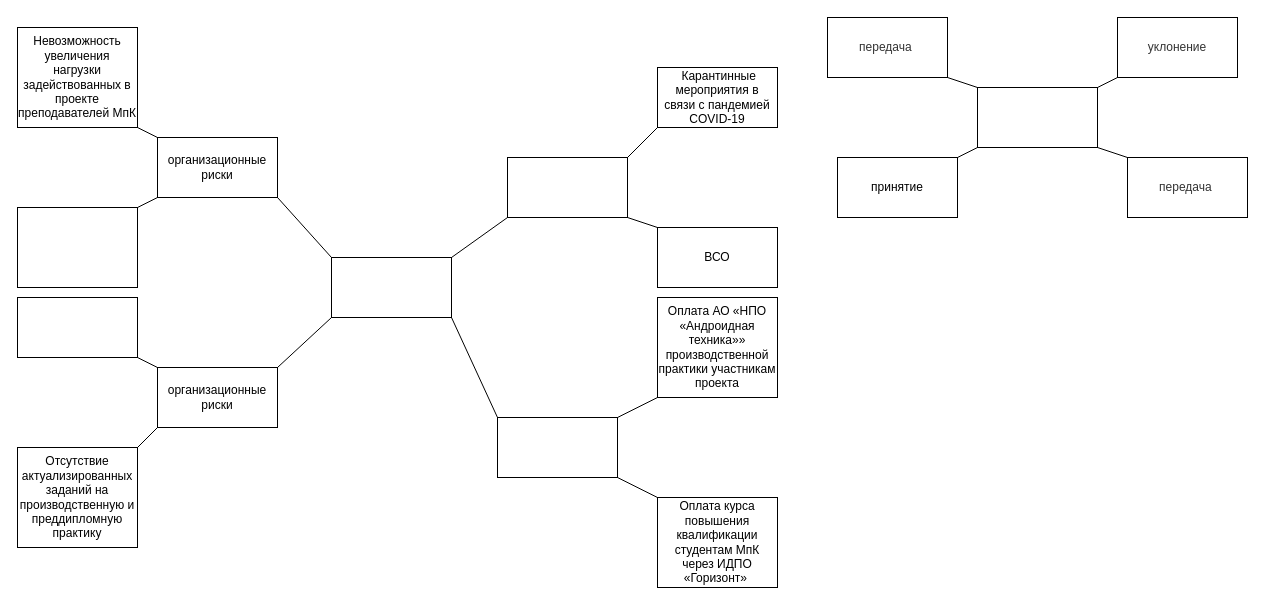
Image size: 1265x605. Some labels were removed from this diagram. Here are the shapes that lost their labels. From the top down, the centre of each, then its label:
the point at 1037,117: реакция на риски
the point at 567,187: Внешние риски
the point at 77,247: Отсутствие актуализированных тем дипломных работ
the point at 391,287: риски
the point at 77,327: Недобор студентов на программу
the point at 557,447: Коммерческие риски
